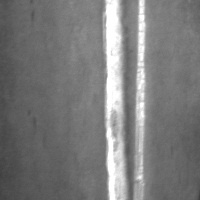inclusion: (27, 6, 39, 30)
scratches: (102, 0, 131, 199), (130, 0, 147, 199)
